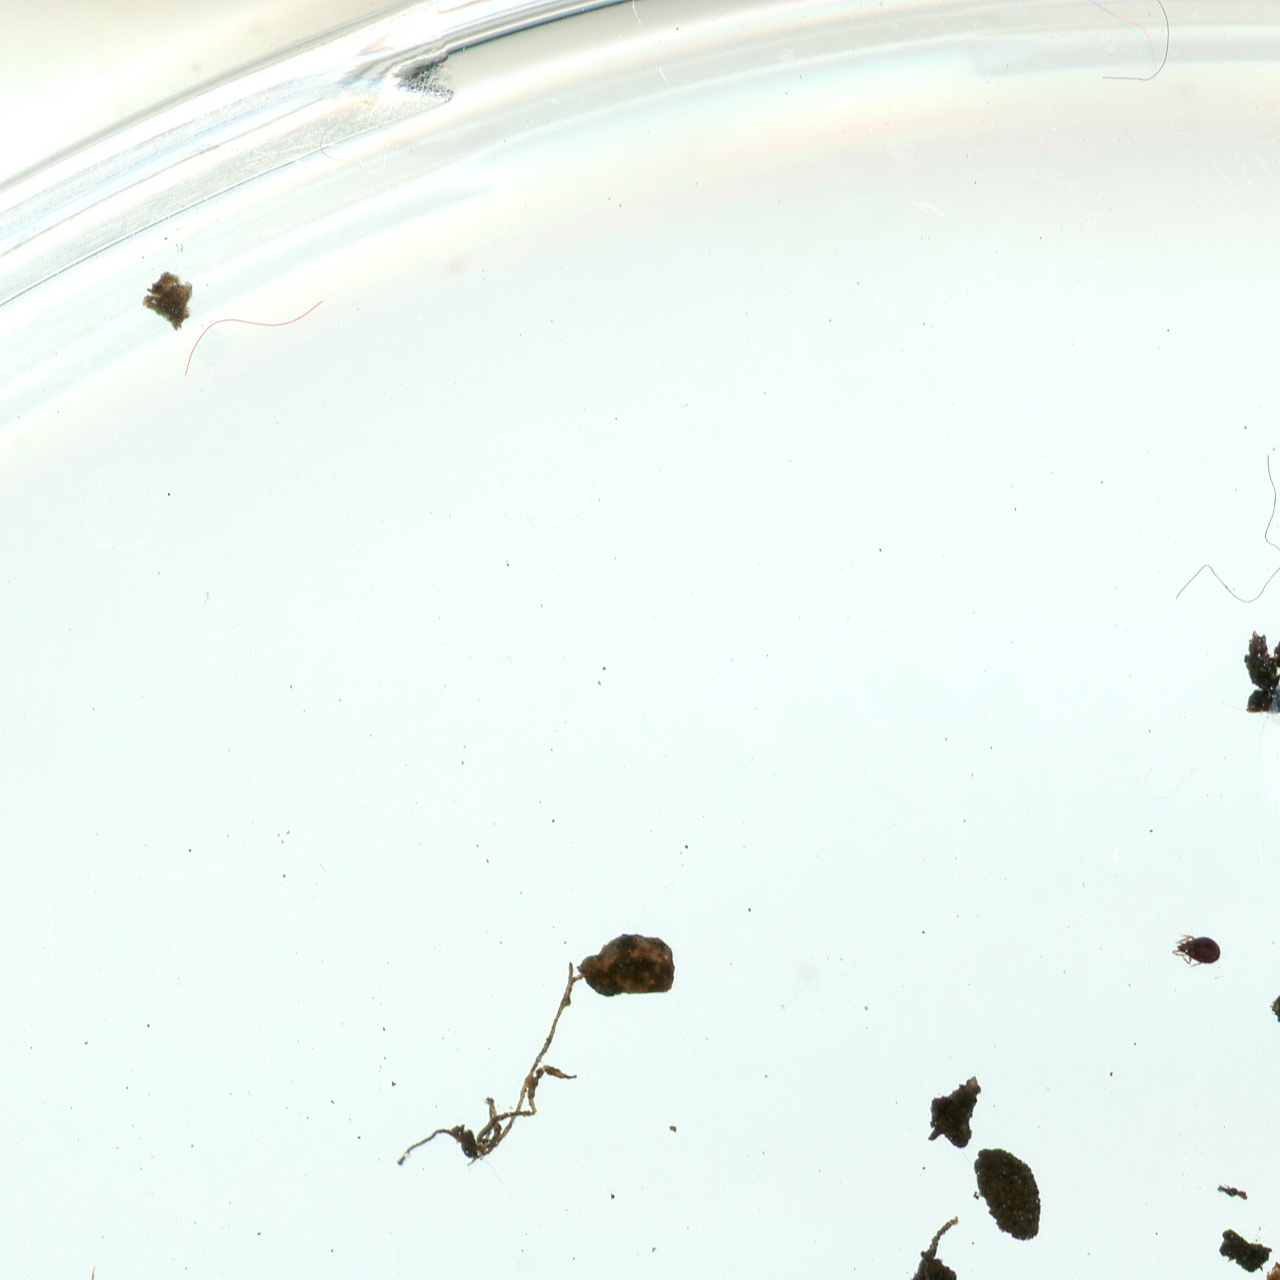arthropod: (1169, 928, 1224, 972)
